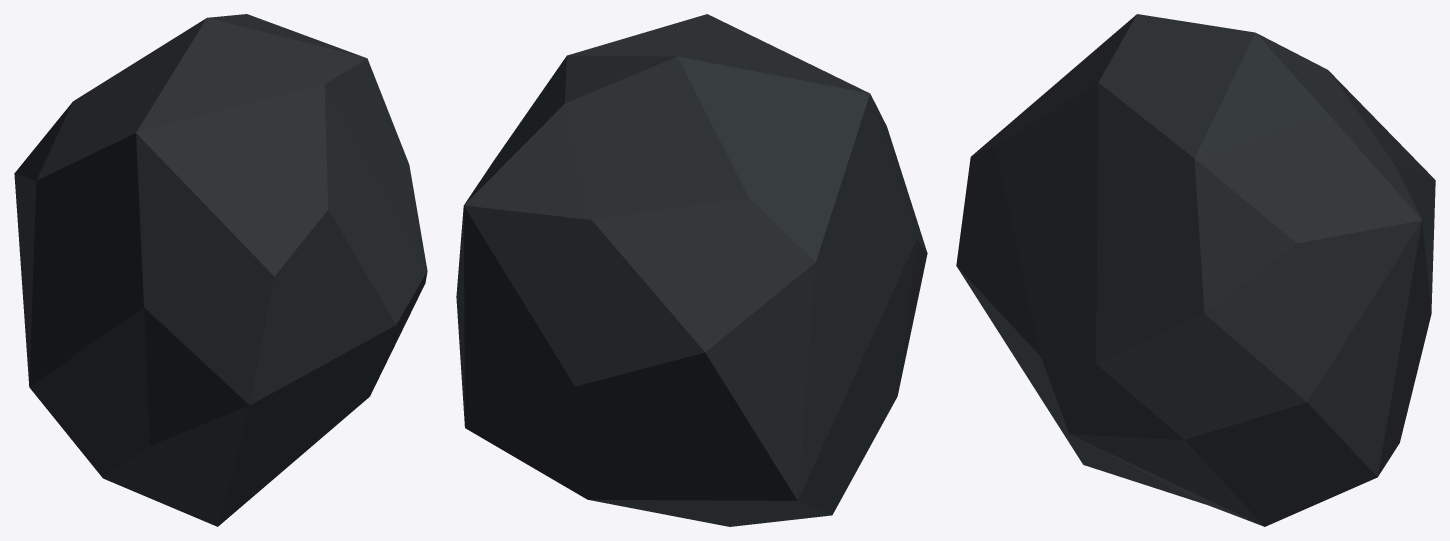
The model's file is Geo_StoneSmall.fbx.
3 renders of one model, left to right at view 1: azimuth 30°, elevation 25°; view 2: azimuth 150°, elevation 25°; view 3: azimuth 270°, elevation 25°, orthographic. The views are drawn at different scales.
Visible parts, largest first — view 1: StoneSmall_Mesh; view 2: StoneSmall_Mesh; view 3: StoneSmall_Mesh.
Part boxes in pixels (bbox=[...]): StoneSmall_Mesh: bbox=[14, 14, 427, 526]; StoneSmall_Mesh: bbox=[456, 14, 927, 526]; StoneSmall_Mesh: bbox=[956, 14, 1435, 526].
Bounding box in the file's own units: 47.39 × 60.81 × 54.25.
